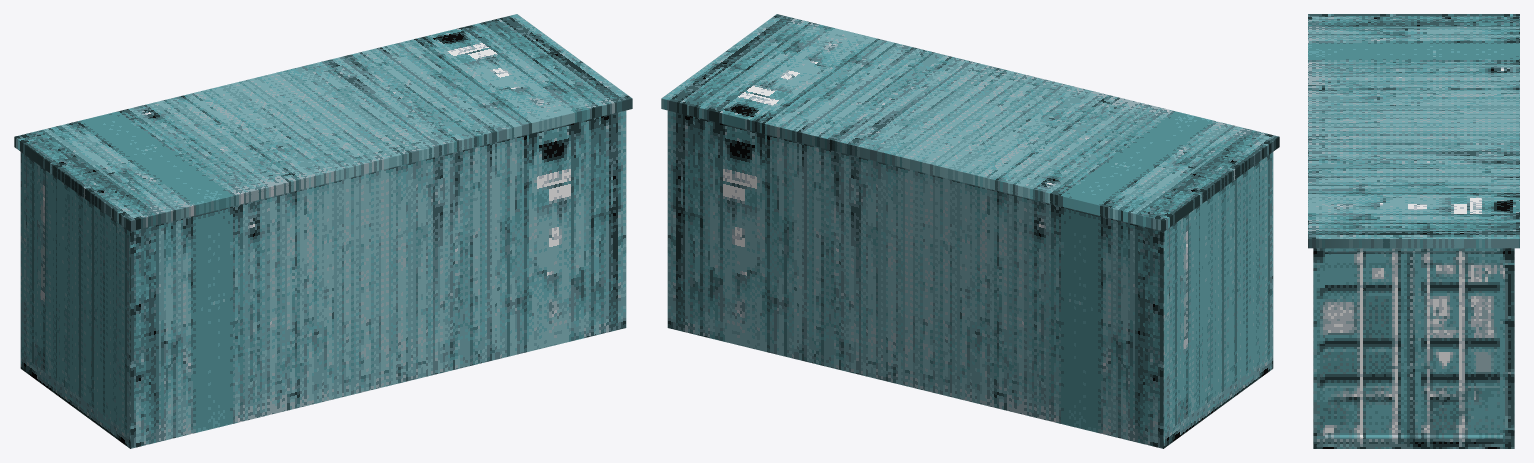
File: container.glb
3 views of the same model, side by side, from view 1: azimuth 30°, elevation 25°; view 2: azimuth 150°, elevation 25°; view 3: azimuth 270°, elevation 25° (orthographic). The views are drawn at different scales.
Visible parts, largest first — view 1: Container Blue, containerLid; view 2: Container Blue, containerLid; view 3: containerLid, Container Blue.
Boxes of the visible parts, bbox=[...] form: Container Blue: bbox=[20, 110, 626, 448]; containerLid: bbox=[14, 14, 632, 231]; Container Blue: bbox=[667, 110, 1273, 448]; containerLid: bbox=[661, 14, 1279, 231]; containerLid: bbox=[1308, 14, 1519, 248]; Container Blue: bbox=[1313, 248, 1514, 448].
Bounding box in the file's own units: 2.37 × 1.04 × 0.9453.
1 material, 1 textured.
